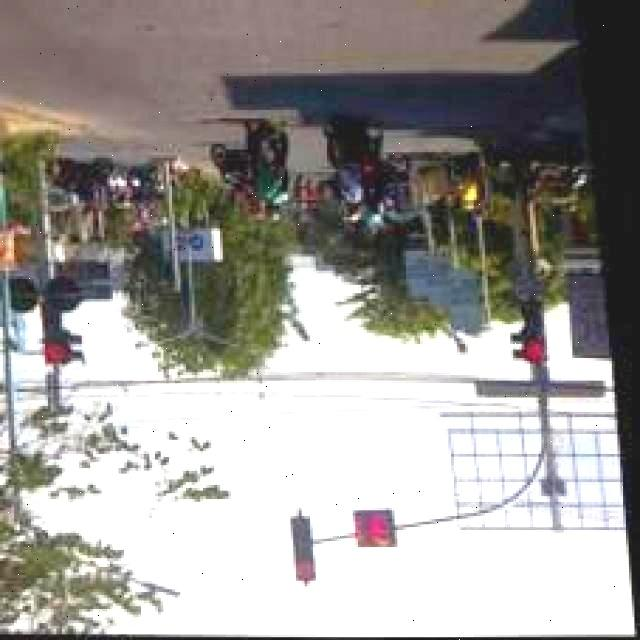Red: (248, 484, 438, 606), (473, 278, 587, 398), (26, 272, 100, 388)
